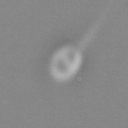normal: (78, 1, 115, 50)
